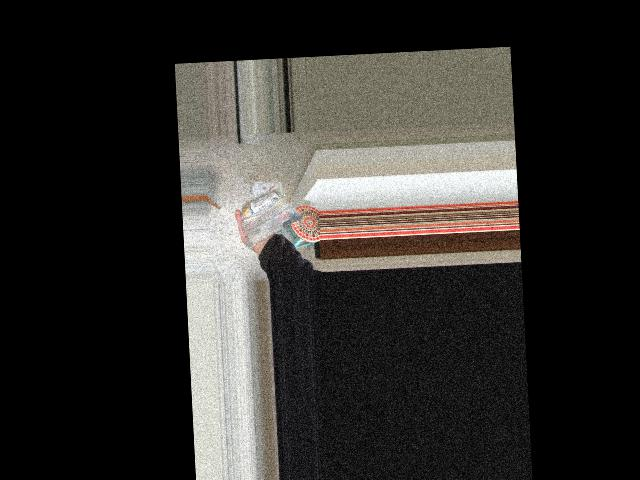cheese: (251, 174, 282, 238)
